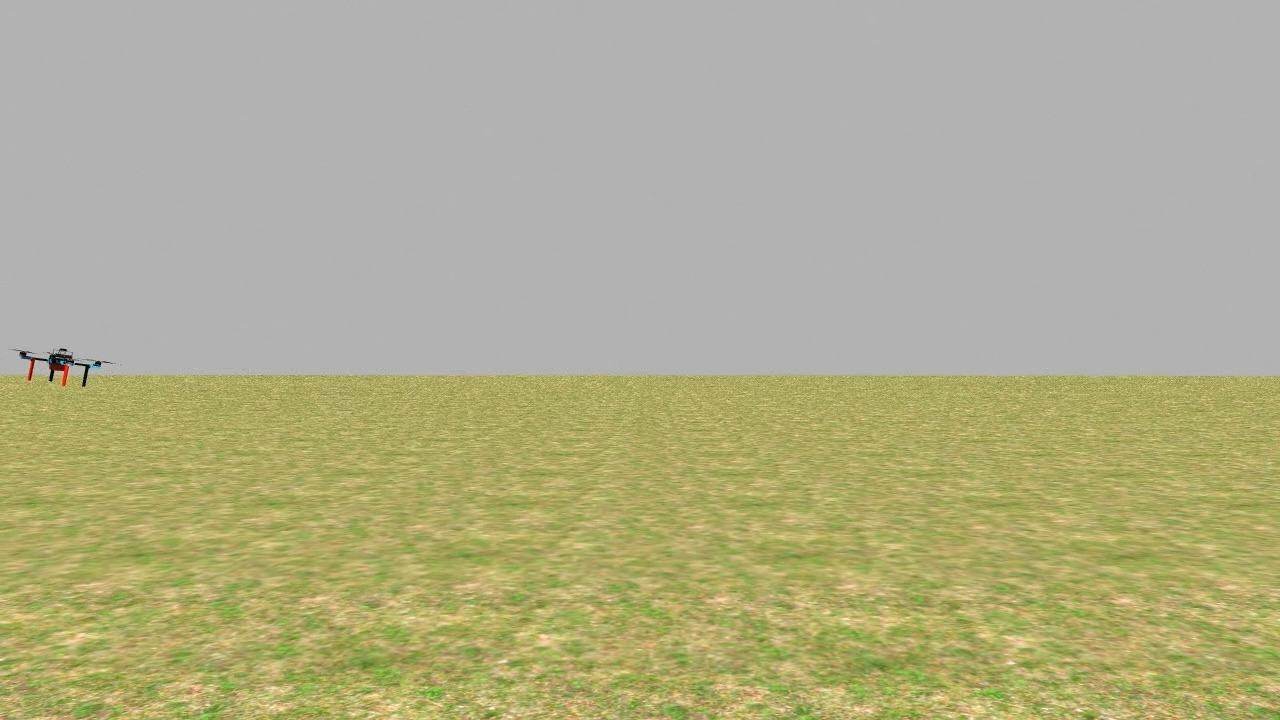UAV: (19, 340, 108, 394)
